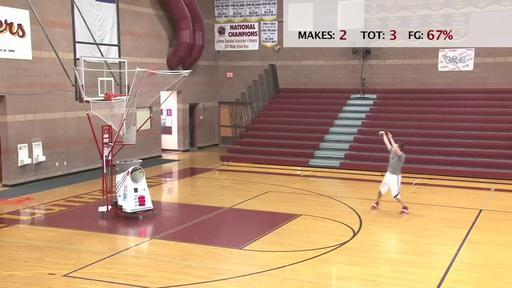ball: (146, 66, 159, 78)
human: (371, 130, 409, 215)
rim: (106, 93, 129, 114)
